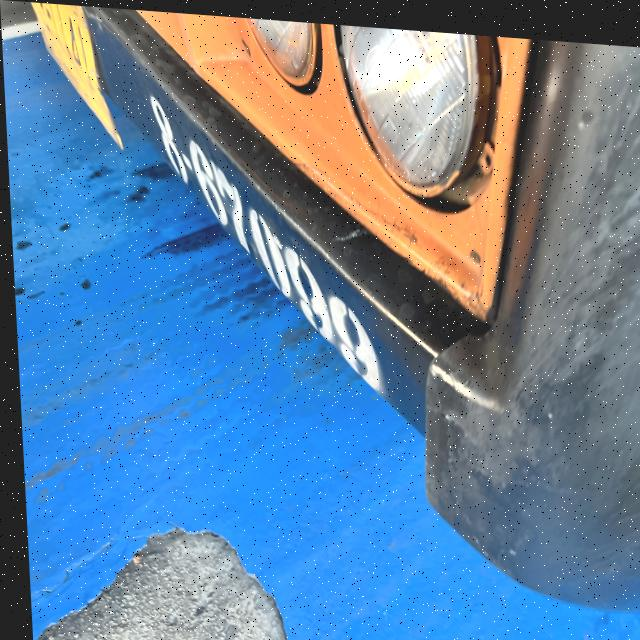BMTA-bus: (0, 0, 640, 610)
